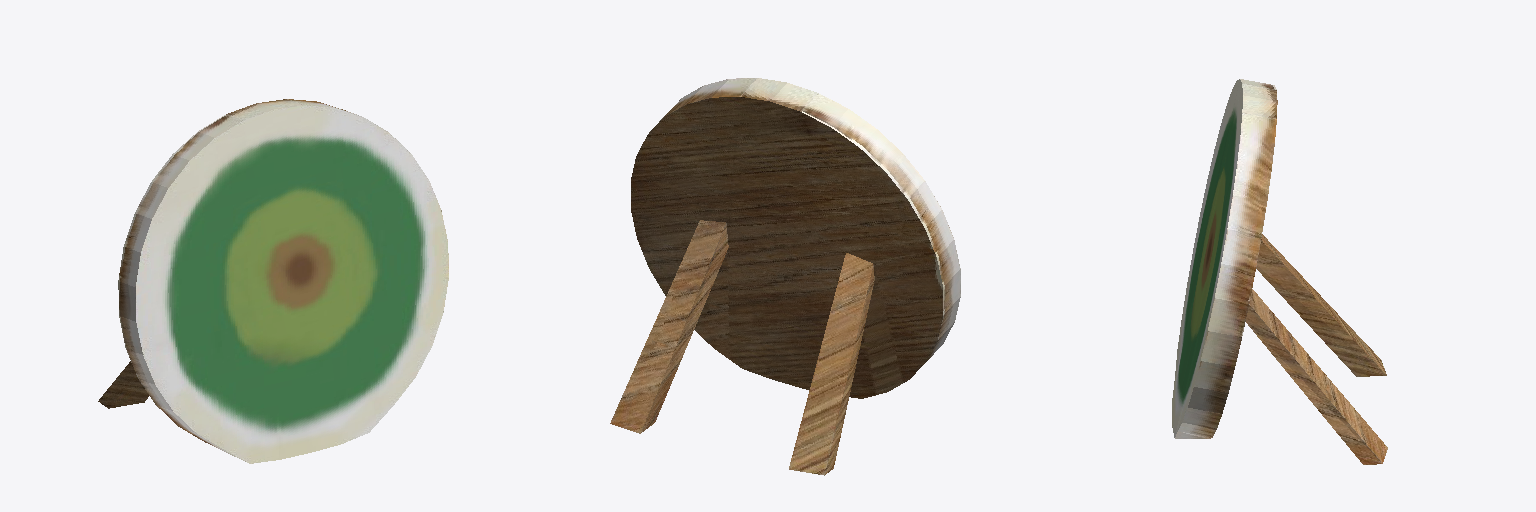
3 views of the same model, side by side, from view 1: azimuth 30°, elevation 25°; view 2: azimuth 150°, elevation 25°; view 3: azimuth 270°, elevation 25° (orthographic).
Parts seen in each view (by area): view 1: Cylinder; view 2: Cylinder; view 3: Cylinder.
Part boxes in pixels (x1,y1,x2,y2): Cylinder: (98,99,448,463); Cylinder: (610,78,960,475); Cylinder: (1172,79,1387,464).
Bounding box in the file's own units: 2 × 1.96 × 1.2.
1 materials, 1 textured.